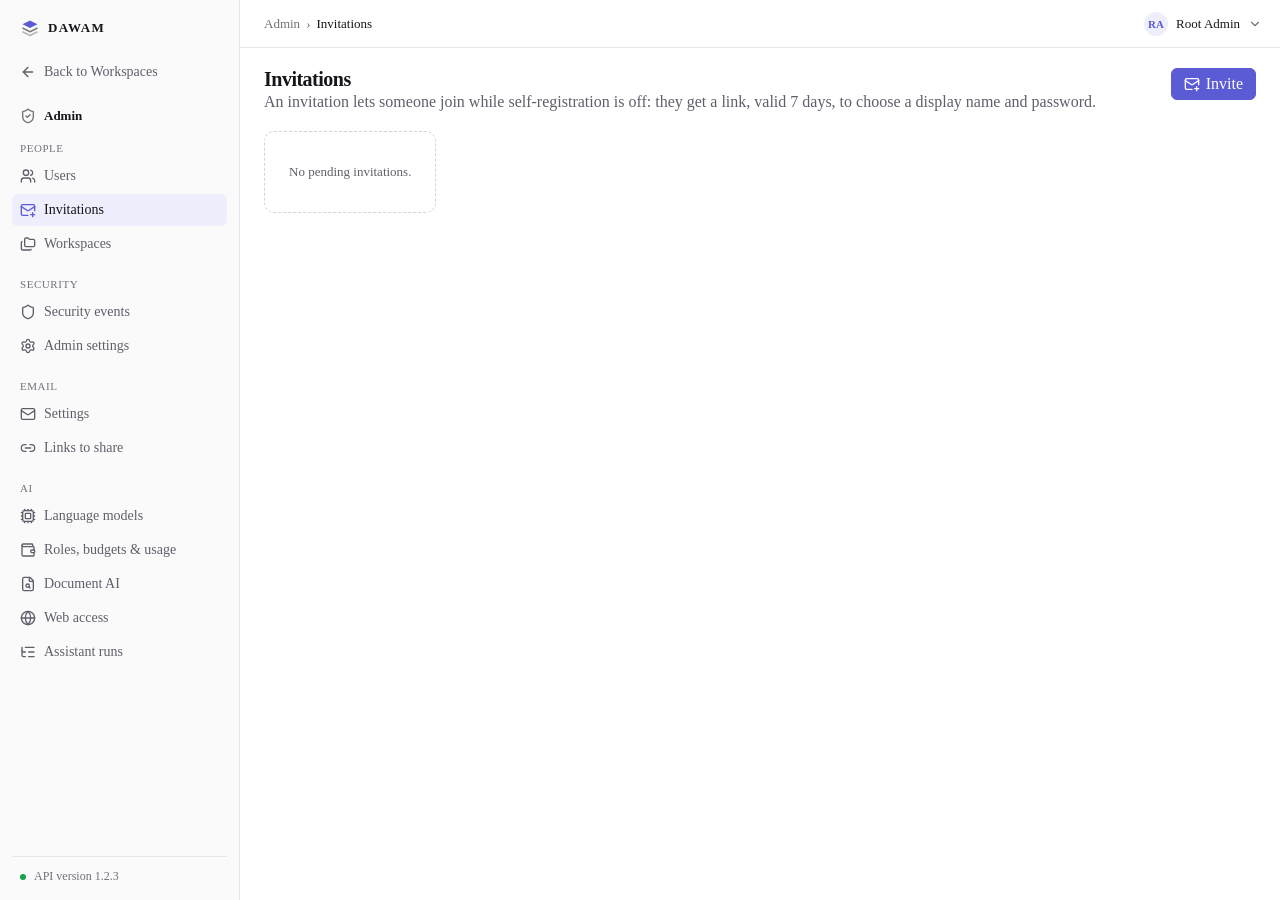
Test: inviting someone › sends the invitation and lists it as pending
Expected: the text "No pending invitations." is shown, [289,164,411,180]
Click the button "Invite" at (1213, 84), box [1171,68,1256,100]
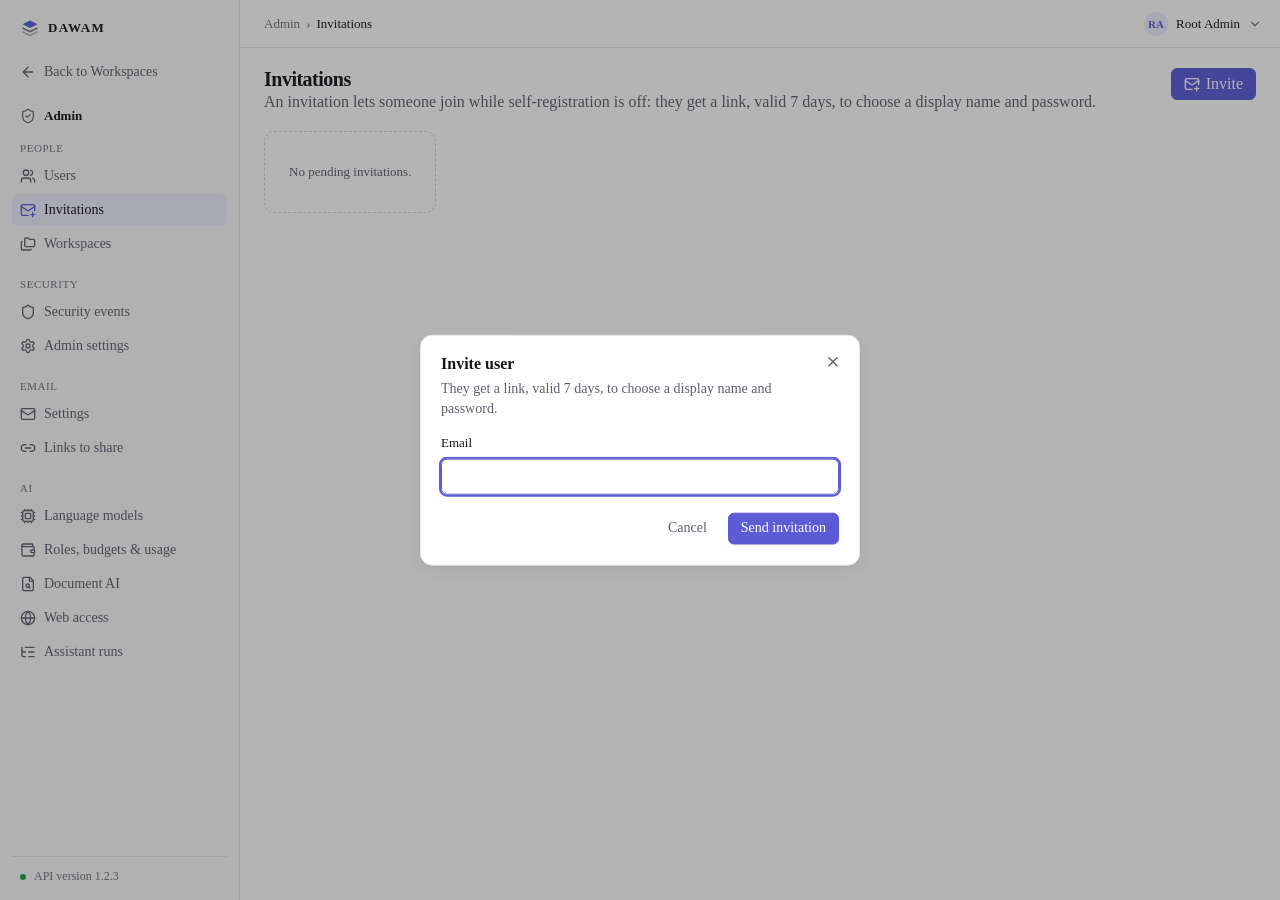
Type "amy@example.com" into the field labelled "Email" at (640, 476), box [441,458,839,494]
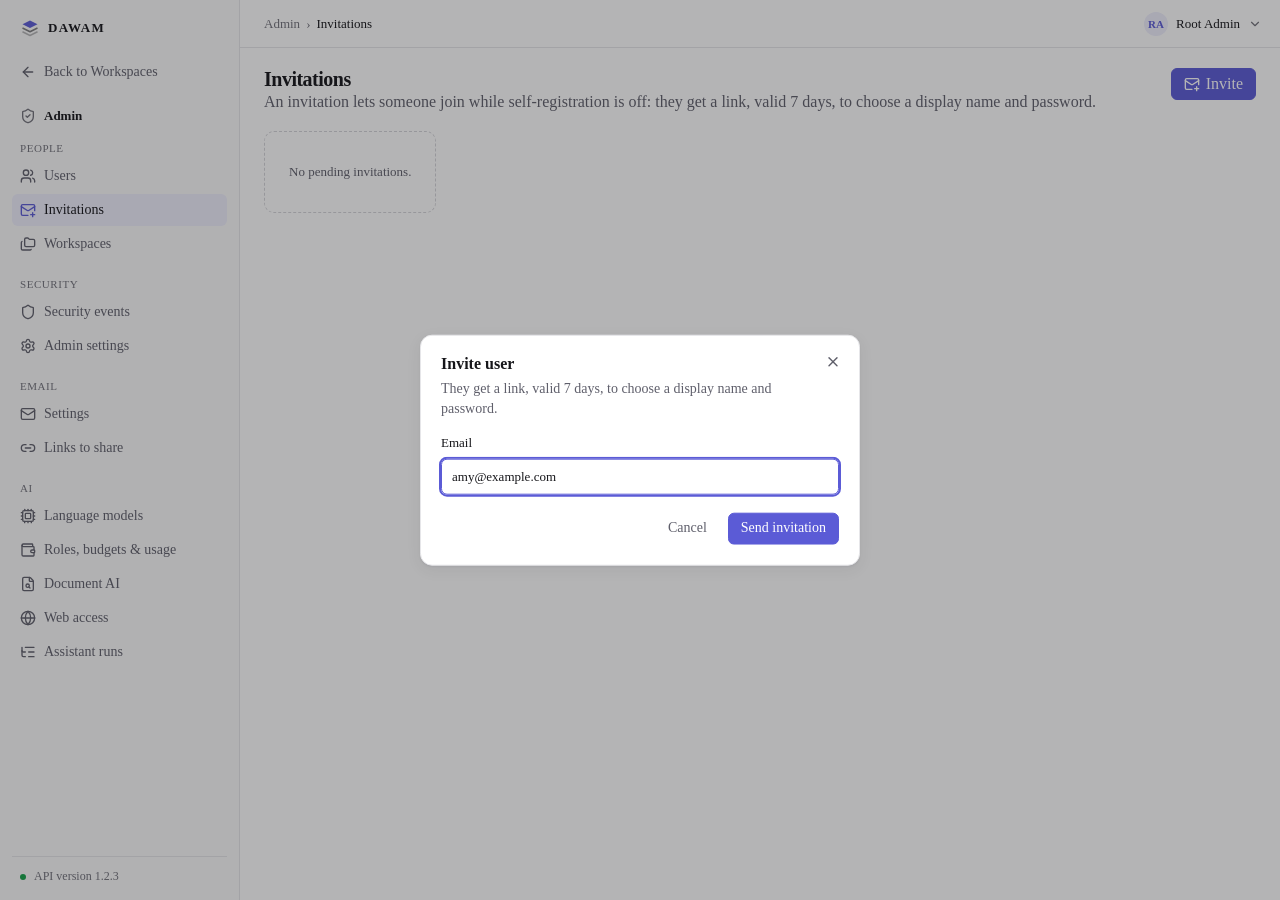
Click the button "Send invitation" at (783, 528), box [728,512,839,544]
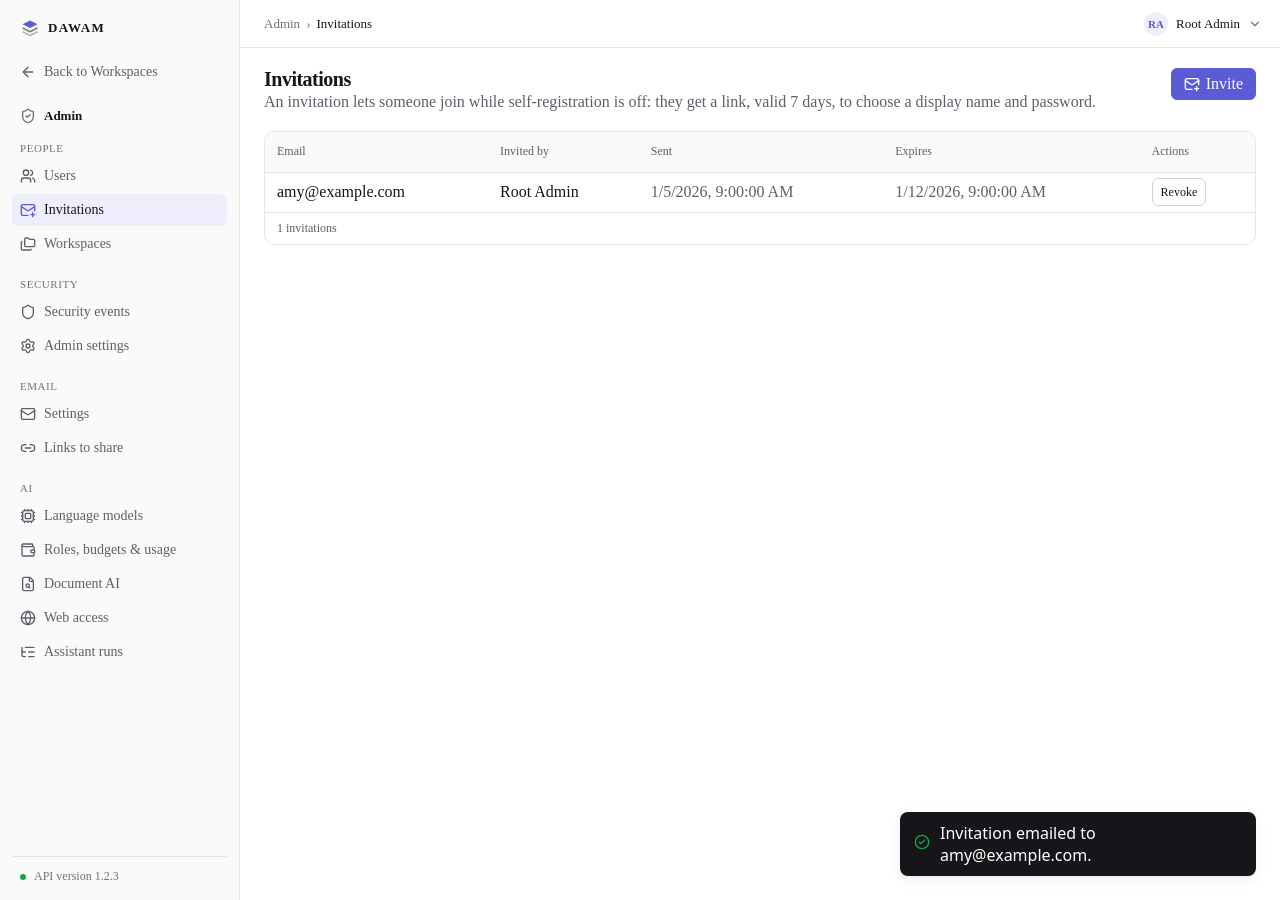
Expected: the text "Invitation emailed to amy@example.com." is shown, [940,822,1096,866]
Expected: the row "amy@example.com" is shown, [265,172,1255,212]
